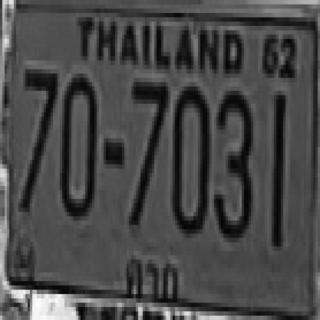N00: (170, 82, 207, 229), (58, 71, 94, 214)
N01: (269, 89, 283, 244)
N03: (212, 87, 251, 238)
N07: (129, 78, 166, 225), (21, 63, 55, 210)
P69: (119, 250, 183, 308)
